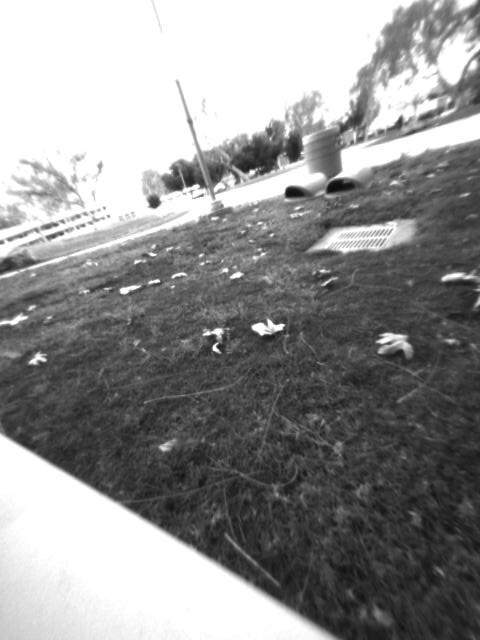trashcan: (299, 122, 345, 182)
